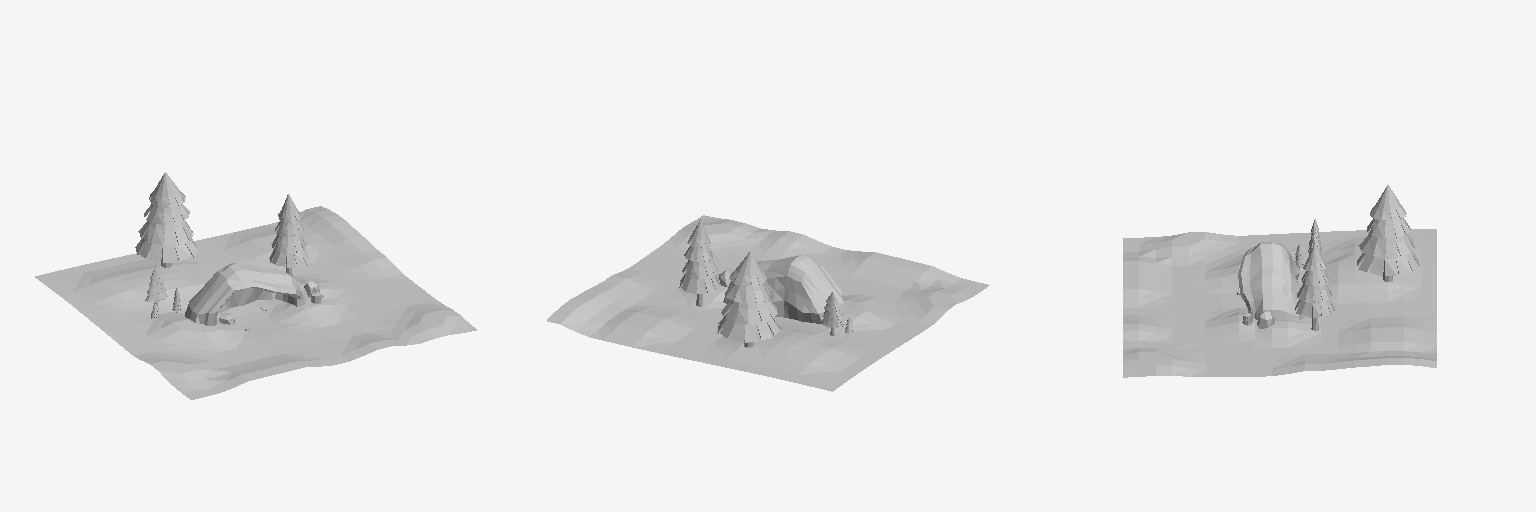
Rendered from snow_fixed.obj.
3 renders of one model, left to right at view 1: azimuth 30°, elevation 25°; view 2: azimuth 150°, elevation 25°; view 3: azimuth 270°, elevation 25°, orthographic.
Parts seen in each view (by area): view 1: SnowEnv; view 2: SnowEnv; view 3: SnowEnv.
Boxes of the visible parts, <box> form: SnowEnv: <box>35,172,476,399</box>; SnowEnv: <box>547,215,989,391</box>; SnowEnv: <box>1123,185,1436,377</box>.
Size of the model in its own units: 5.44 by 1.95 by 5.17.